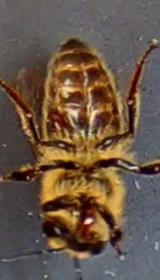varroa_mite: (42, 109, 74, 134)
